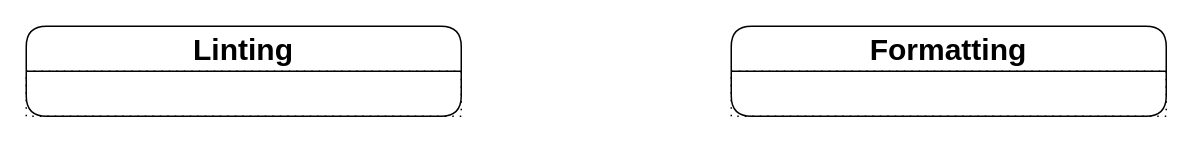
Image size: 1193x143. Some labels were removed from this diagram. Each missing label, with the centre of its shape:
"1. Formatting means organising the code" goes at pixel 948 93.
"1. Linting is the analysis of the static code" goes at pixel 243 93.
